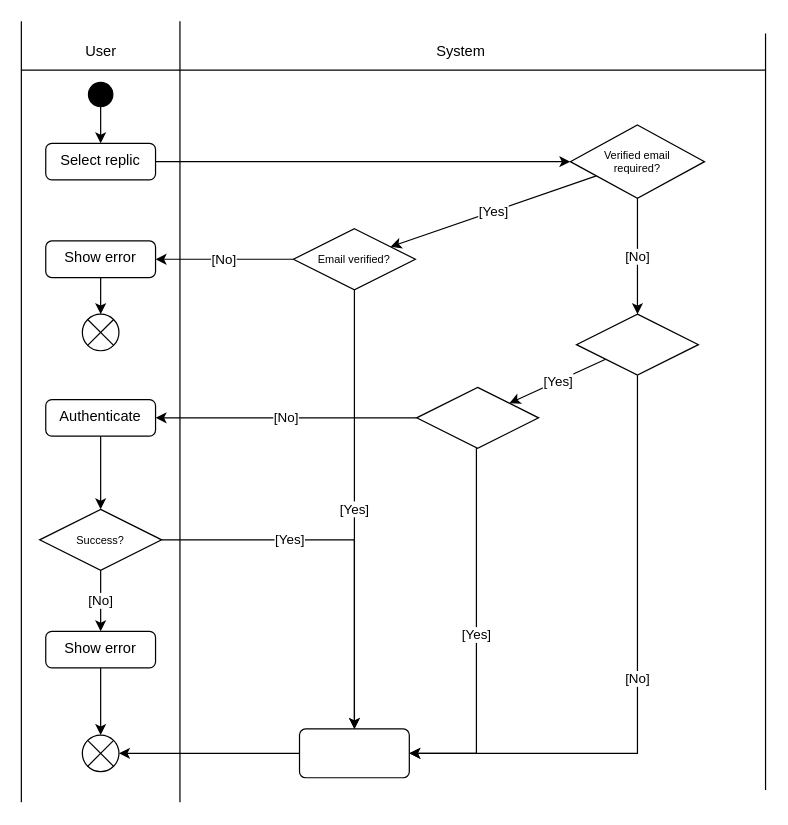
This 788x825 diagram has some shape labels left out. Here are the shapes that lost their labels. From the top down, the centre of each, then its label:
the point at 636,344: Account required?
the point at 477,417: Logged in?
the point at 353,753: Redirect to replic
